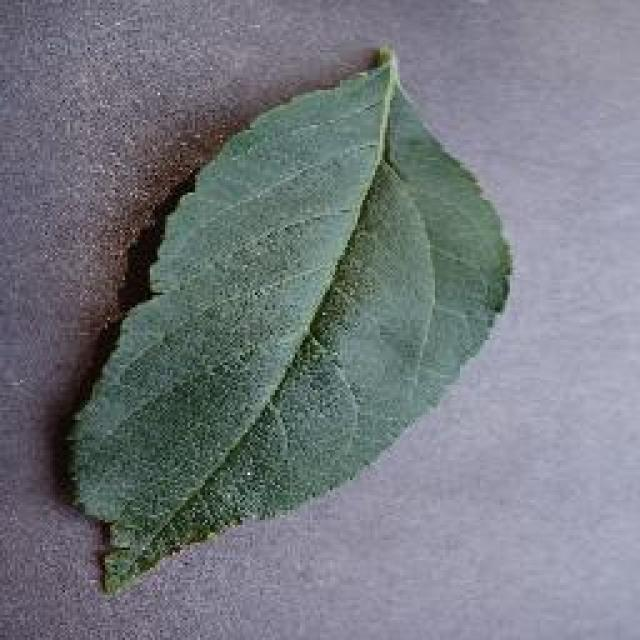apple scab disease: (60, 40, 512, 595)
